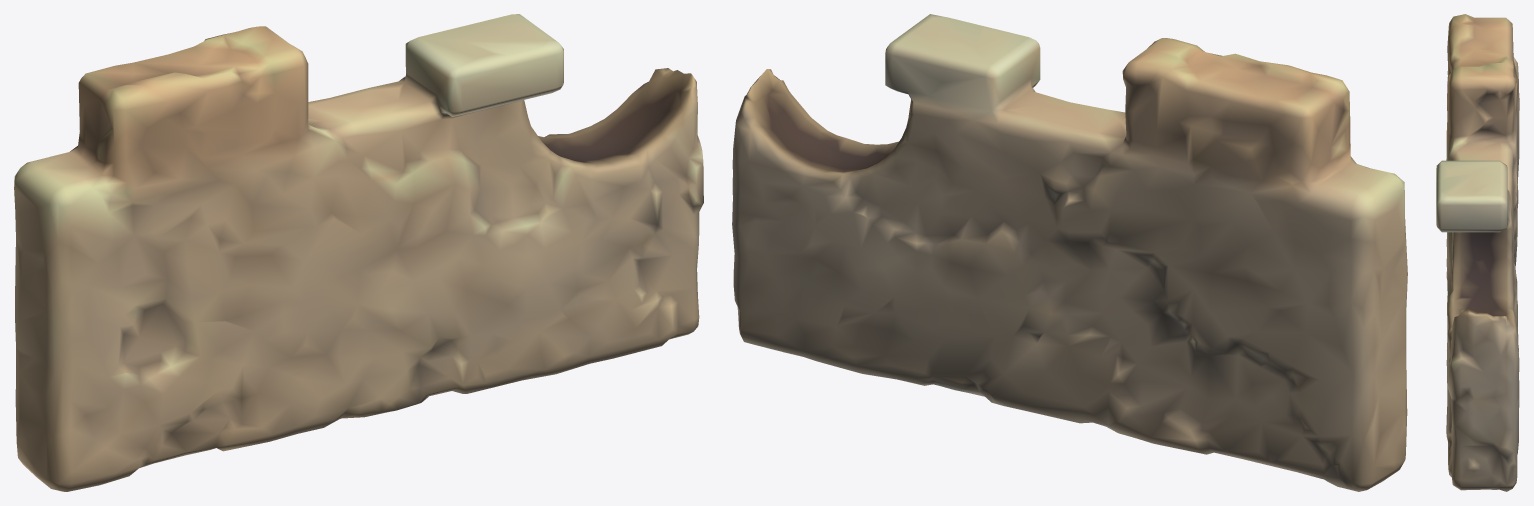
File: env_se_wall.glb
3 renders of one model, left to right at view 1: azimuth 30°, elevation 25°; view 2: azimuth 150°, elevation 25°; view 3: azimuth 270°, elevation 25°, orthographic. The views are drawn at different scales.
Parts seen in each view (by area): view 1: geometry_0; view 2: geometry_0; view 3: geometry_0.
Boxes of the visible parts, bbox=[...] form: geometry_0: bbox=[14, 14, 703, 491]; geometry_0: bbox=[732, 14, 1407, 491]; geometry_0: bbox=[1436, 14, 1519, 491].
Size of the model in its own units: 5.06 by 2.86 by 0.7718.
